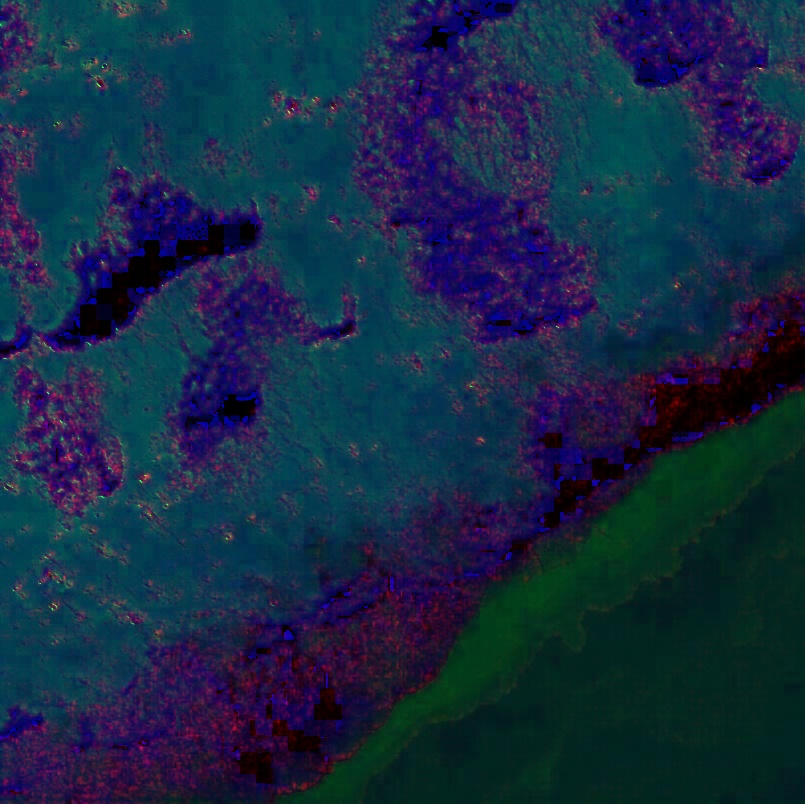rip_current: (208, 138, 536, 532)
